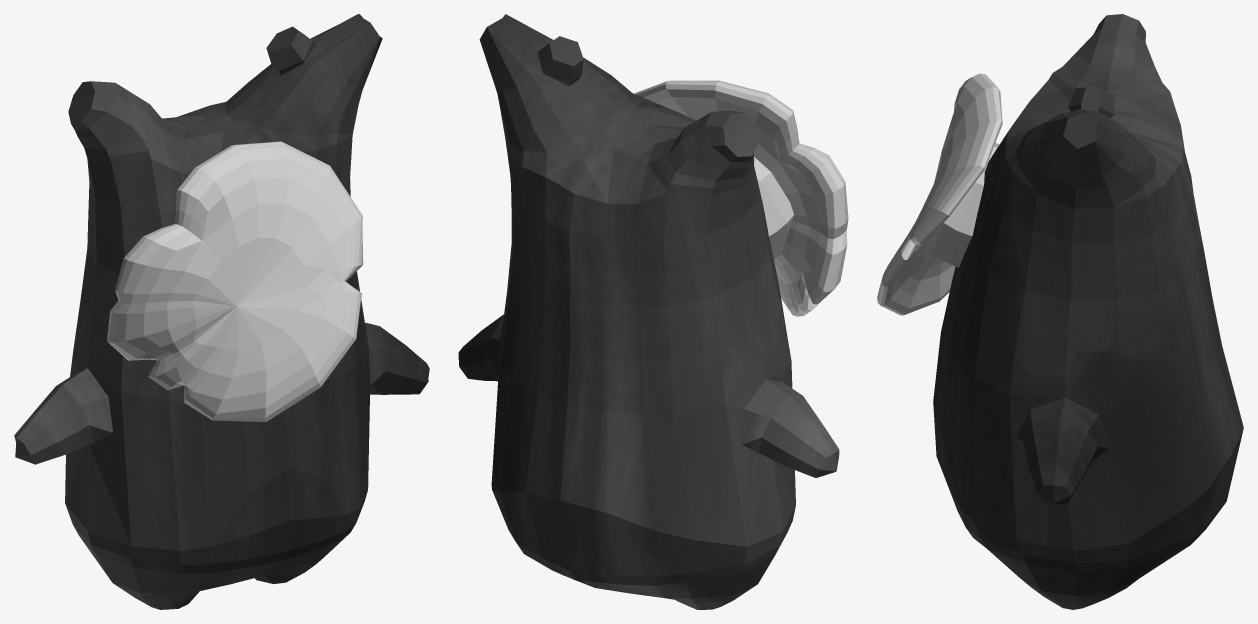
Rendered from frame_0092.obj.
3 renders of one model, left to right at view 1: azimuth 30°, elevation 25°; view 2: azimuth 150°, elevation 25°; view 3: azimuth 270°, elevation 25°, orthographic.
Visible parts, largest first — view 1: korok, leaf; view 2: korok, leaf, nose; view 3: korok, leaf, nose.
Part boxes in pixels (left/top/right/bottom): korok: left=14, top=14, right=429, bottom=609; leaf: left=107, top=141, right=363, bottom=421; korok: left=458, top=14, right=839, bottom=609; leaf: left=635, top=80, right=848, bottom=316; nose: left=754, top=157, right=793, bottom=259; korok: left=933, top=14, right=1243, bottom=609; leaf: left=877, top=73, right=1002, bottom=315; nose: left=930, top=143, right=999, bottom=267.
Size of the model in its own units: 1.68 by 2.22 by 1.38.
